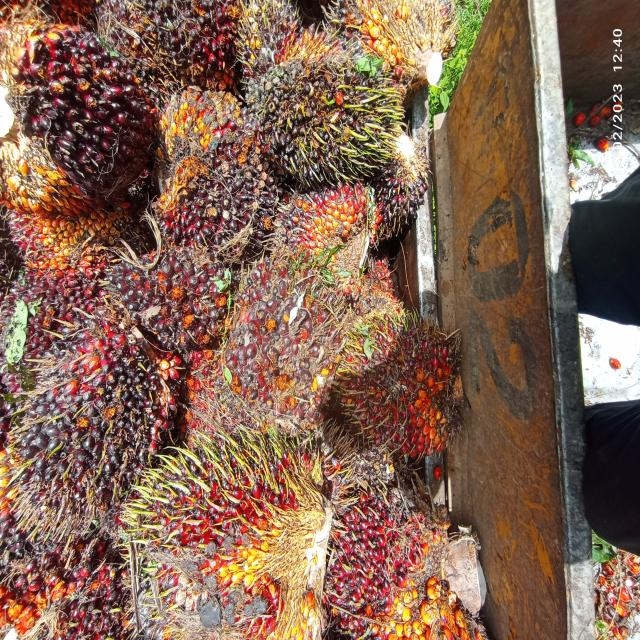fraksi 00: (12, 310, 170, 566), (246, 13, 404, 210), (369, 113, 431, 248)
fraksi 1: (130, 385, 342, 640), (0, 6, 165, 232), (141, 55, 293, 279), (210, 246, 337, 449), (266, 164, 392, 291), (121, 244, 229, 354)
fraksi 3: (331, 272, 466, 491)
